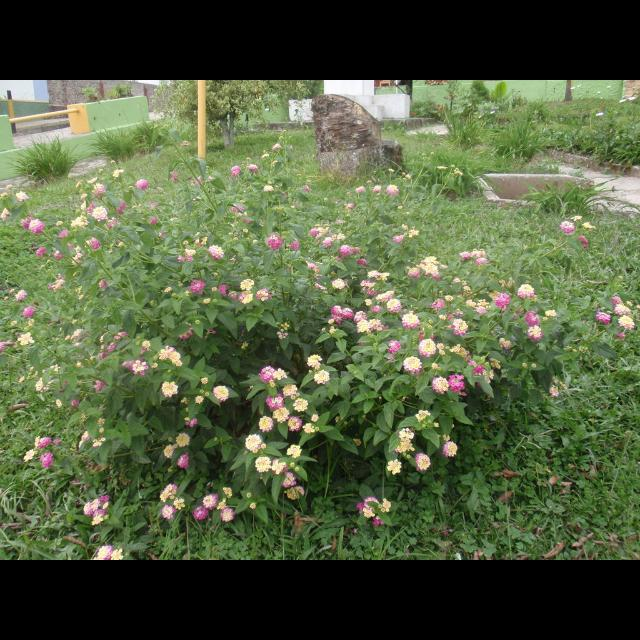Flower: (326, 246, 556, 398), (26, 322, 232, 473), (152, 144, 294, 216), (250, 362, 314, 460), (307, 184, 407, 243), (386, 410, 459, 472), (216, 278, 272, 306), (593, 296, 635, 332), (560, 214, 594, 248), (180, 230, 207, 268), (357, 496, 391, 526), (86, 498, 106, 526), (99, 544, 121, 560), (47, 276, 65, 294), (160, 482, 176, 502), (204, 492, 222, 508), (13, 188, 31, 202), (263, 235, 281, 249), (16, 334, 32, 348), (192, 507, 208, 521), (72, 214, 90, 226), (28, 220, 44, 232), (190, 280, 206, 292), (94, 207, 108, 220), (162, 508, 176, 520), (42, 456, 54, 468), (210, 247, 222, 259), (23, 450, 37, 460), (22, 306, 31, 320), (90, 240, 102, 250), (220, 510, 232, 520), (33, 247, 47, 255), (134, 180, 148, 188), (173, 498, 183, 509), (1, 206, 7, 220), (60, 230, 70, 238), (56, 222, 62, 228)
